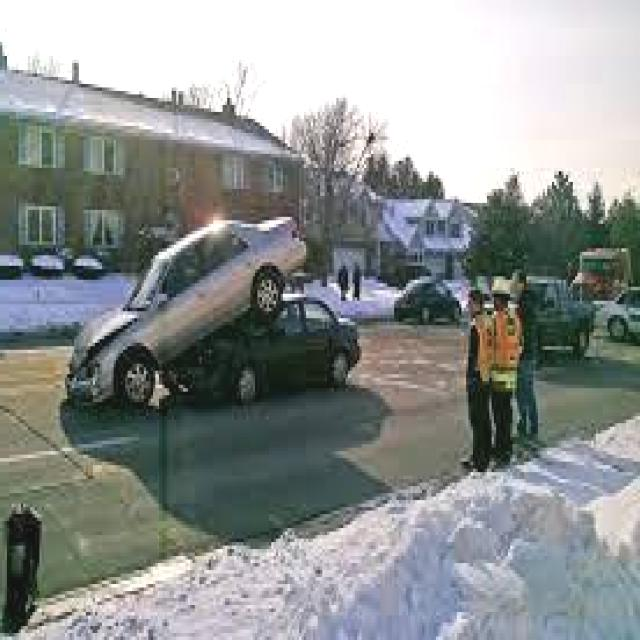accident: (63, 211, 361, 409)
non-accident: (460, 248, 640, 364)
